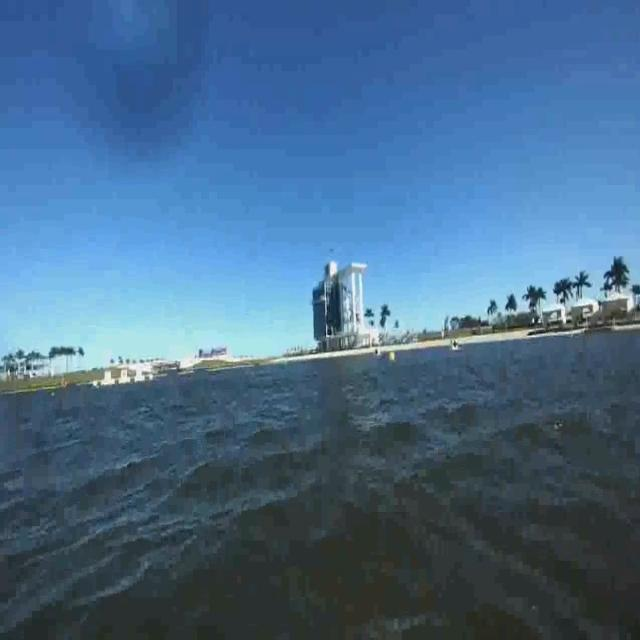yellow-buoy: (386, 350, 394, 364)
